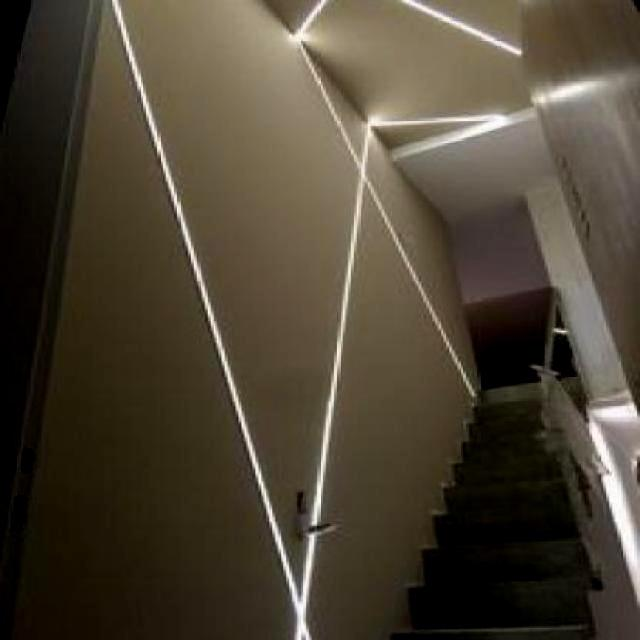stair: (351, 360, 638, 638)
